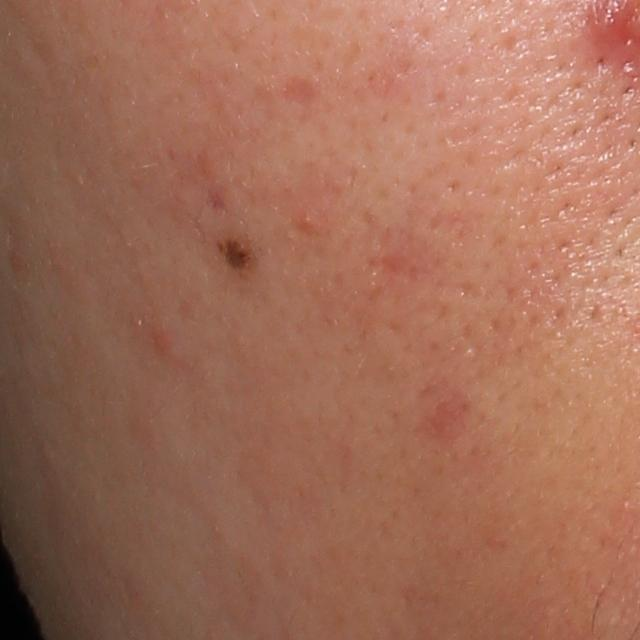atrophic_scar: (276, 74, 320, 107)
nevus: (213, 235, 258, 270)
papule: (142, 322, 186, 369), (296, 208, 323, 234)
